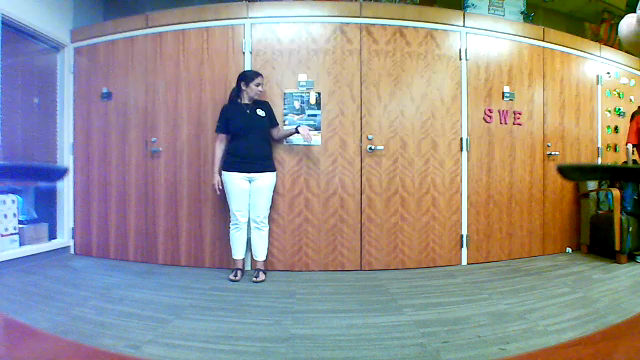land: (291, 119, 322, 150)
